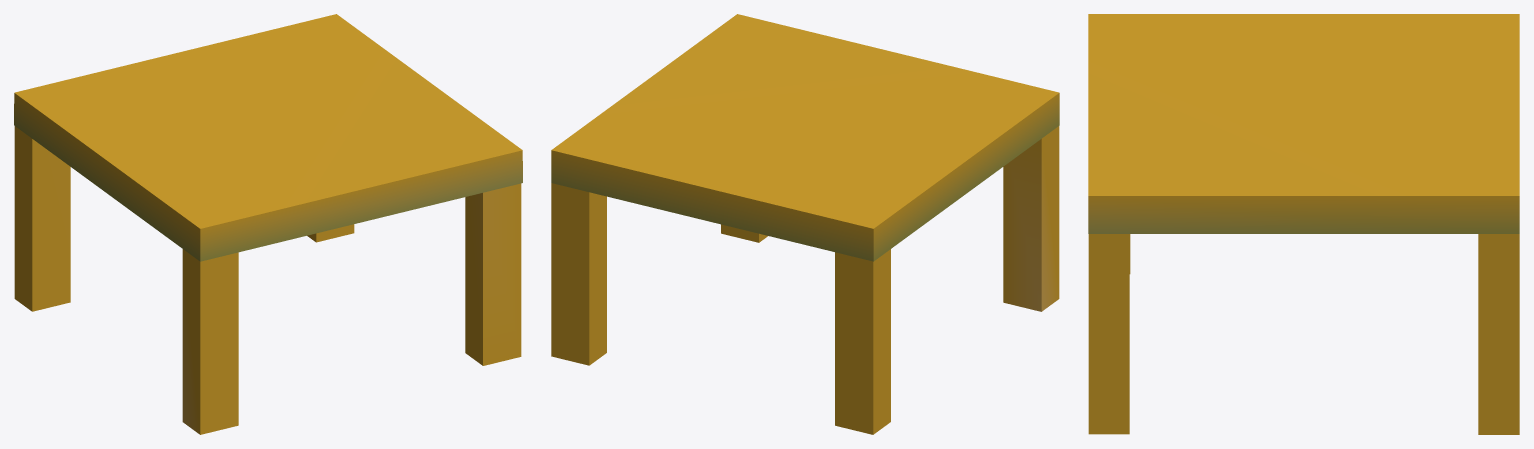
Rendered from table.glb.
3 renders of one model, left to right at view 1: azimuth 30°, elevation 25°; view 2: azimuth 150°, elevation 25°; view 3: azimuth 270°, elevation 25°, orthographic. The views are drawn at different scales.
Parts seen in each view (by area): view 1: Cube; view 2: Cube; view 3: Cube.
Part boxes in pixels (<box>): Cube: <box>14,14,522,434</box>; Cube: <box>551,14,1059,434</box>; Cube: <box>1088,14,1519,434</box>.
Size of the model in its own units: 1 by 0.611 by 1.
